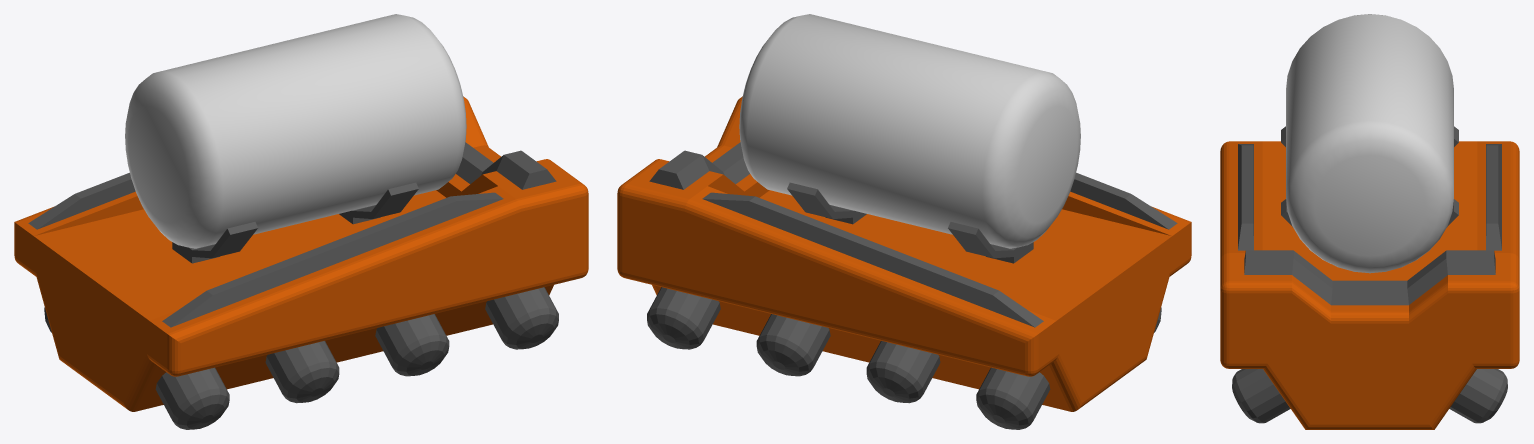
Rendered from Cart.fbx.
3 views of the same model, side by side, from view 1: azimuth 30°, elevation 25°; view 2: azimuth 150°, elevation 25°; view 3: azimuth 270°, elevation 25° (orthographic). The views are drawn at different scales.
Parts seen in each view (by area): view 1: Cart, CartGlassCylinder, CartRollers; view 2: Cart, CartGlassCylinder, CartRollers; view 3: Cart, CartGlassCylinder, CartRollers.
Part boxes in pixels (x1,y1,x2,y2): Cart: (14,96,588,411); CartGlassCylinder: (125,14,466,248); CartRollers: (44,287,558,429); Cart: (617,96,1191,411); CartGlassCylinder: (739,14,1080,248); CartRollers: (647,287,1161,429); Cart: (1220,126,1519,429); CartGlassCylinder: (1286,14,1453,273); CartRollers: (1232,369,1507,423).
Size of the model in its own units: 1.5 by 1.02 by 1.
